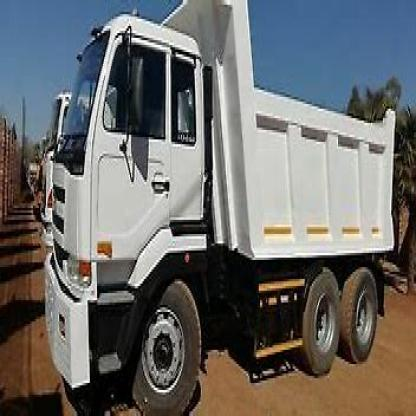dump_truck: (40, 5, 403, 404)
